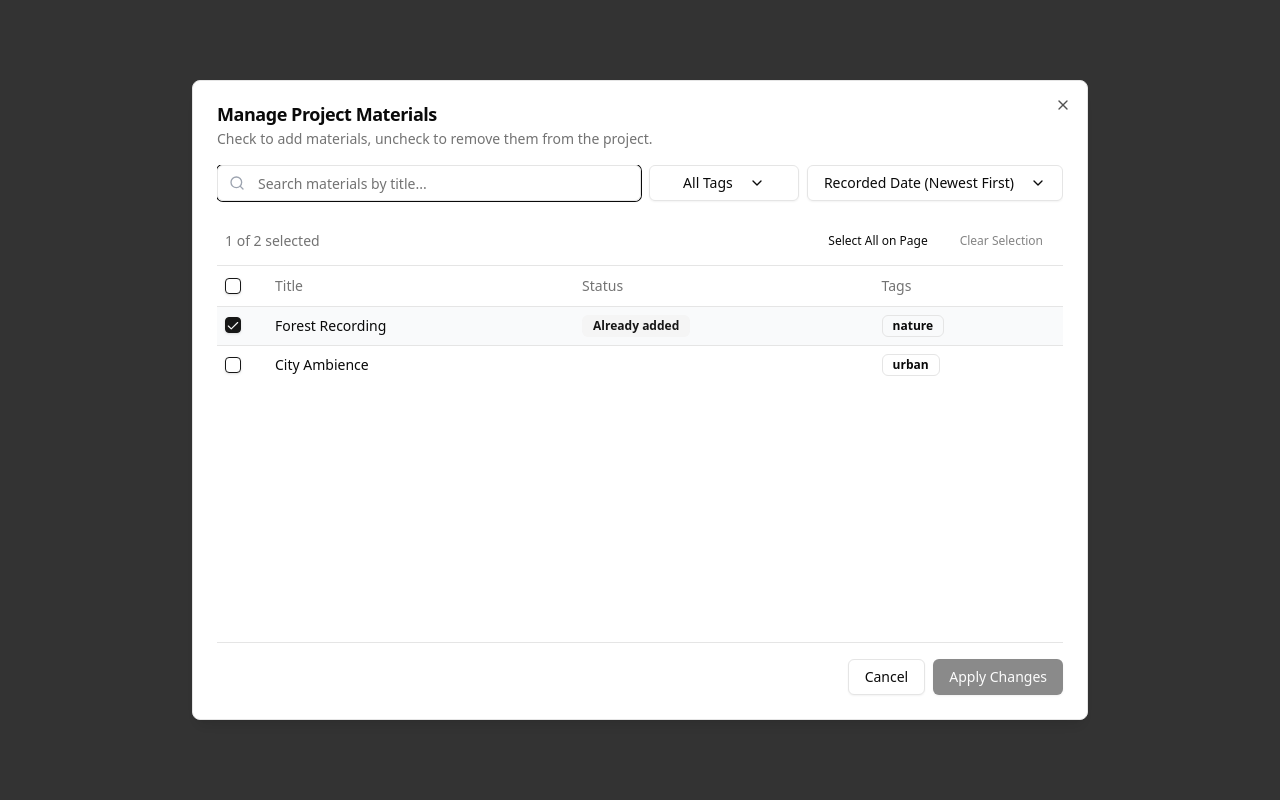
Scenario: ManageMaterialsModal › should handle material checkbox selection
Expected: the text "Forest Recording" is shown, [267,306,574,345]
// Click checkbox to toggle selection
Click the checkbox next to "Forest Recording": (233, 324) [225,316,241,332]
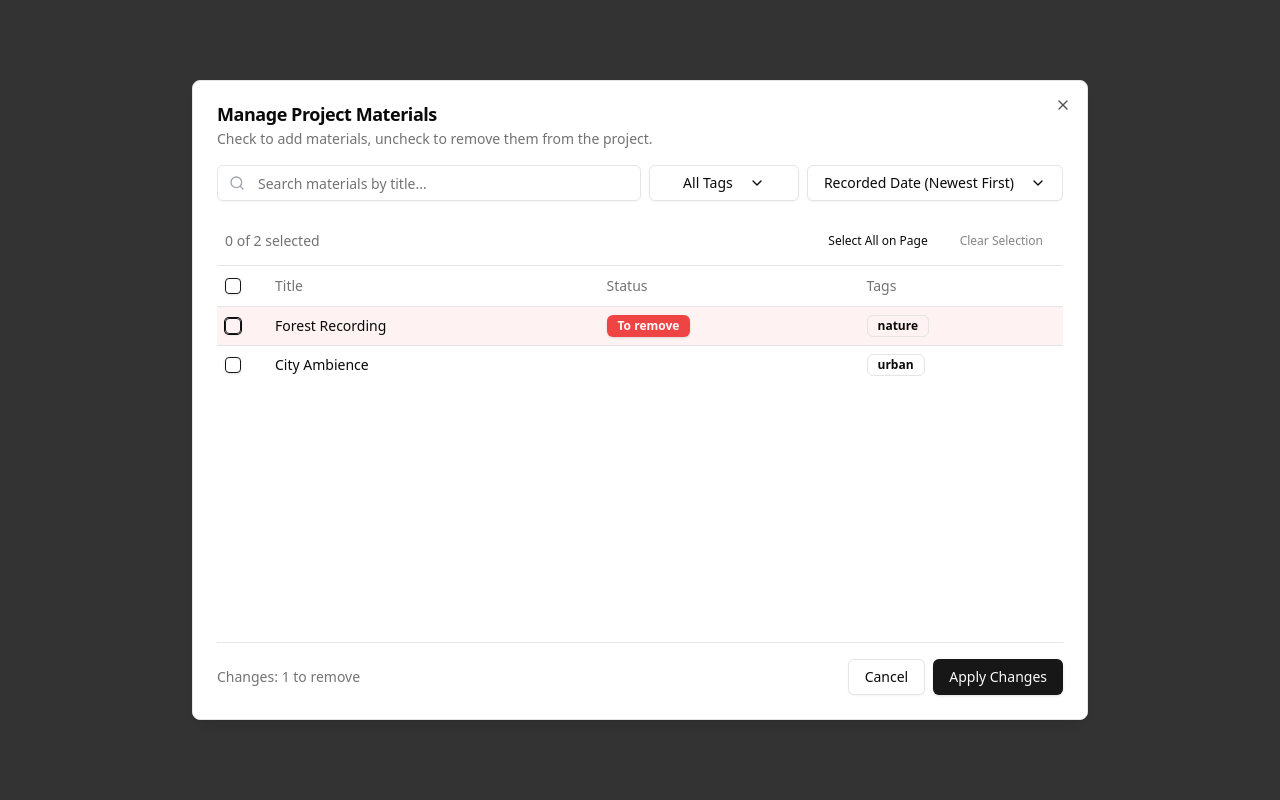
Now the button "Apply Changes" is enabled, box [933,659,1063,695]
